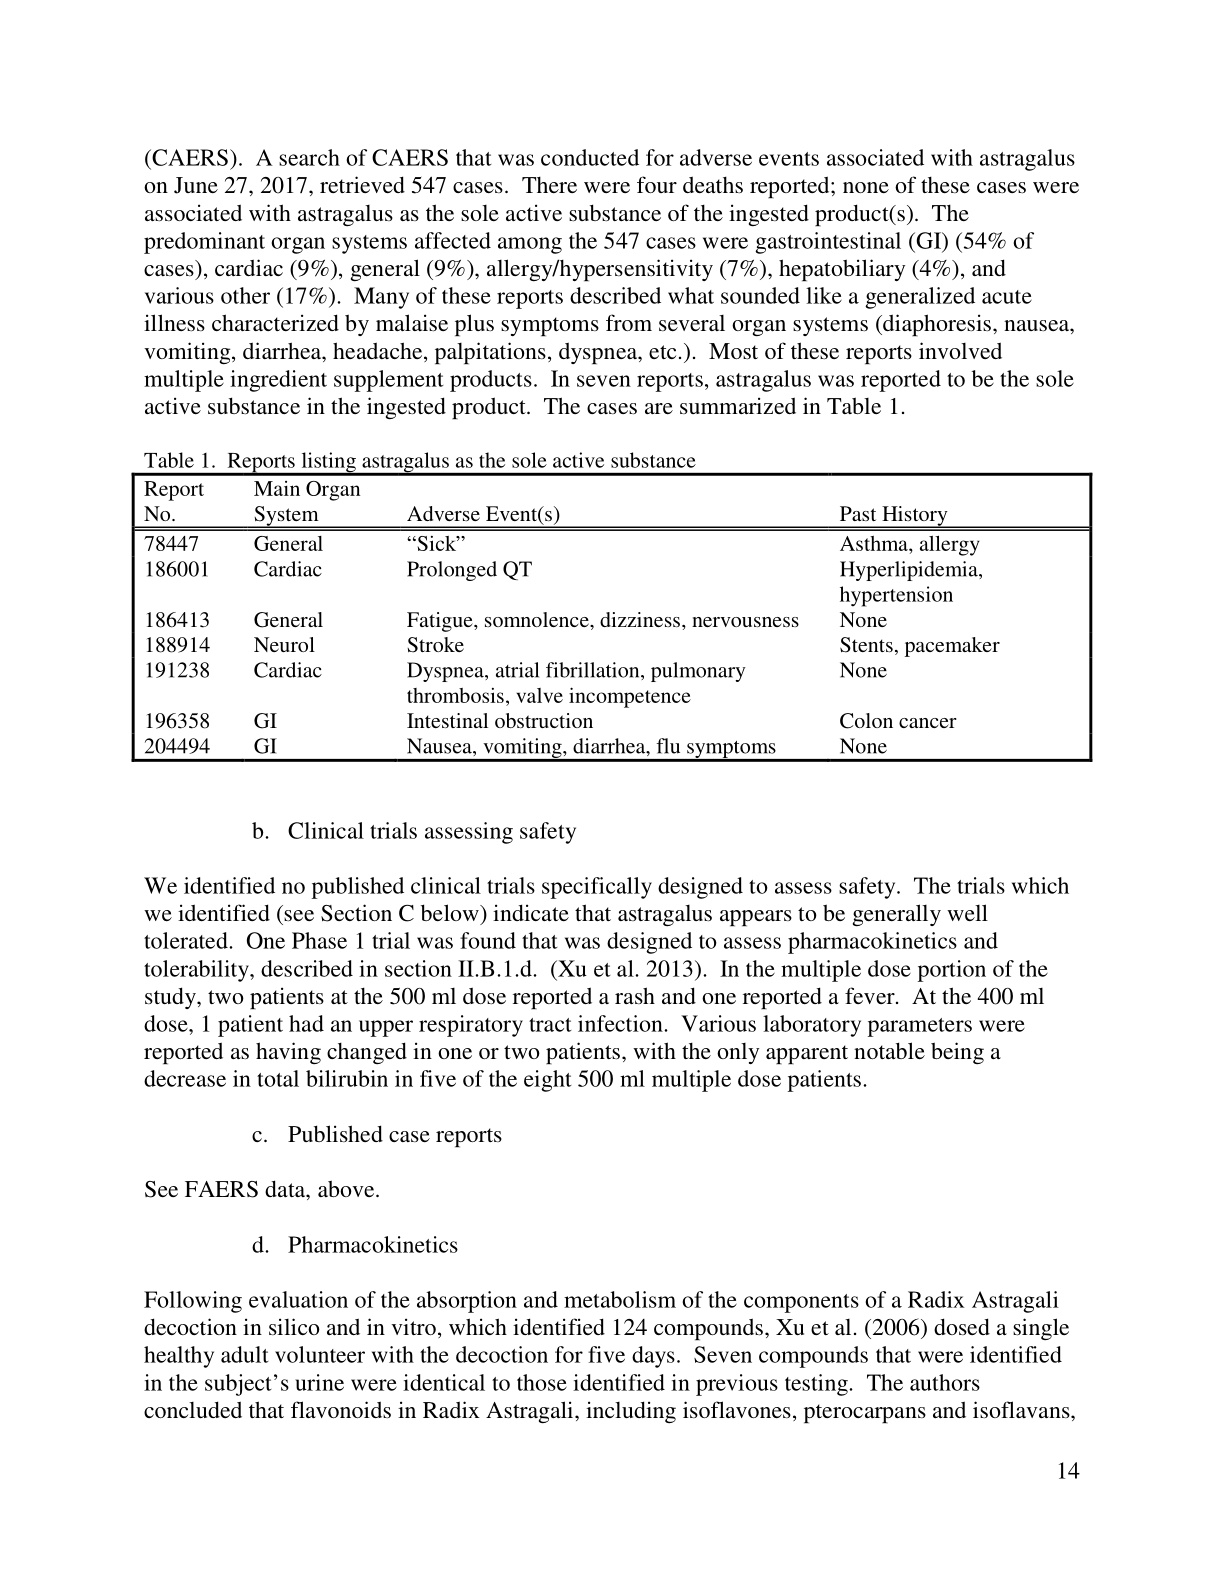partial_lined: (131, 473, 1092, 762)
